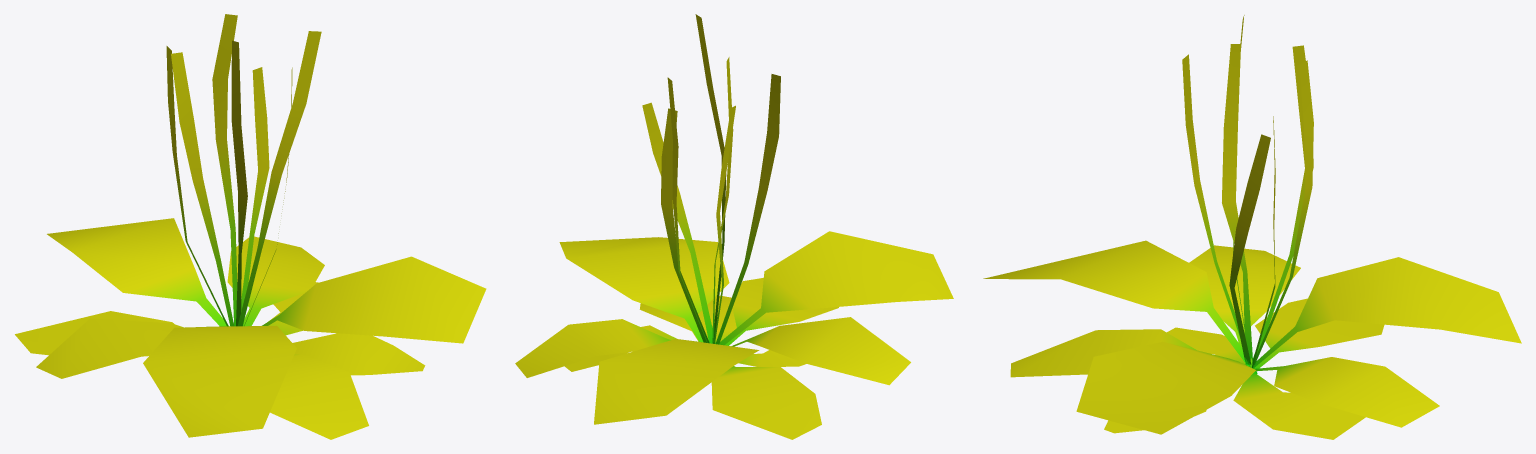
File: Broadleaf Plantain_LOD2_Var1_sfhjc.fbx
The picture shows the model from 3 angles, left to right: view 1: azimuth 30°, elevation 25°; view 2: azimuth 150°, elevation 25°; view 3: azimuth 270°, elevation 25°; orthographic projection. The views are drawn at different scales.
Parts seen in each view (by area): view 1: _7f7a_Var1_LOD2; view 2: _7f7a_Var1_LOD2; view 3: _7f7a_Var1_LOD2.
Part boxes in pixels (<box>): _7f7a_Var1_LOD2: <box>15,14,486,439</box>; _7f7a_Var1_LOD2: <box>515,14,953,439</box>; _7f7a_Var1_LOD2: <box>983,15,1521,439</box>.
Size of the model in its own units: 37.22 by 29.34 by 42.04.
